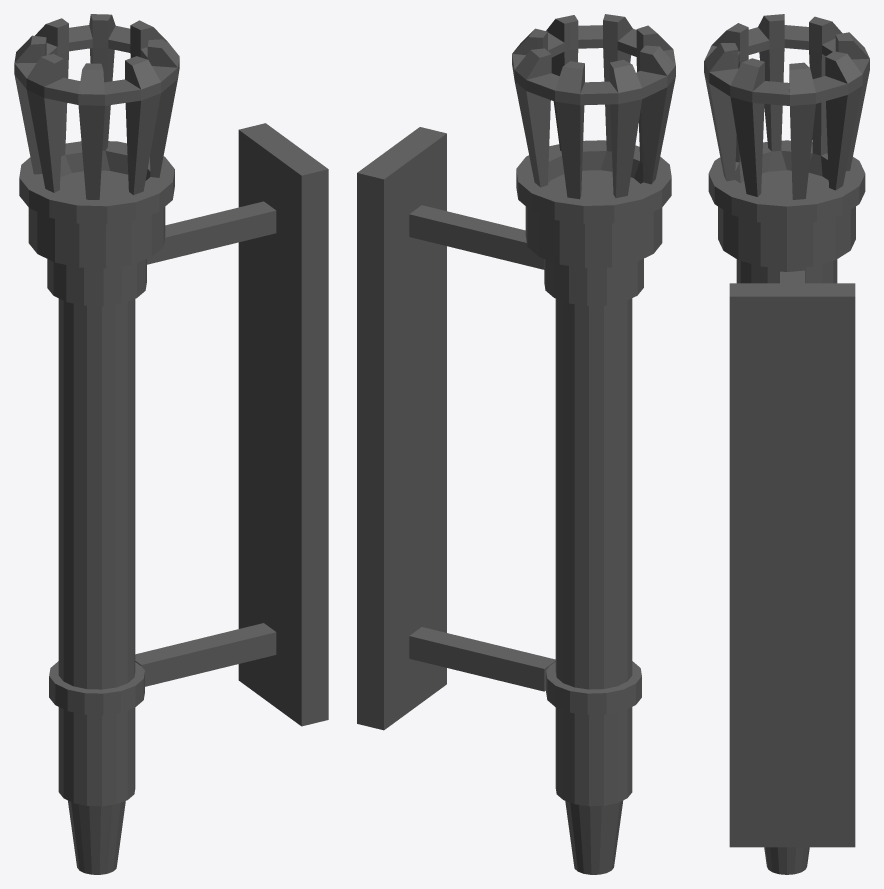
Rendered from 66thjam_torch.fbx.
The picture shows the model from 3 angles, left to right: view 1: azimuth 30°, elevation 25°; view 2: azimuth 150°, elevation 25°; view 3: azimuth 270°, elevation 25°; orthographic projection.
Visible parts, largest first — view 1: Torch; view 2: Torch; view 3: Torch.
Boxes of the visible parts, x1=… form: Torch: x1=14, y1=14, x2=328, y2=874; Torch: x1=357, y1=14, x2=675, y2=874; Torch: x1=704, y1=14, x2=869, y2=874.
Bounding box in the file's own units: 27.83 × 79.85 × 14.57.
Materials: 1 (1 with a texture image).
